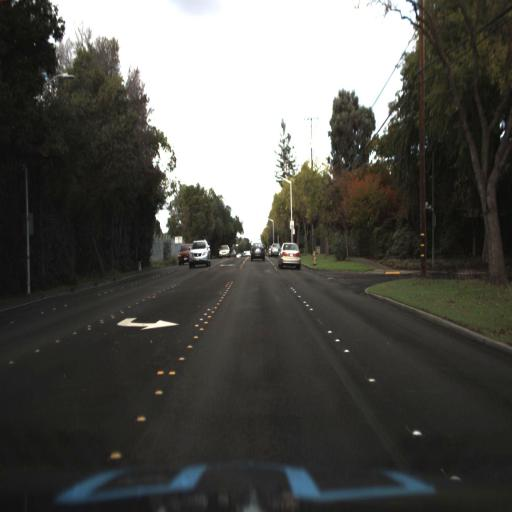car: (278, 237, 301, 271), (188, 237, 212, 266), (249, 239, 265, 264), (177, 244, 189, 263), (267, 240, 279, 258)
